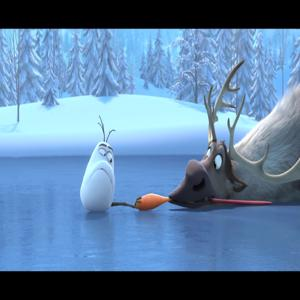carrot: (130, 178, 165, 218)
olaf: (71, 111, 124, 212)
sven: (168, 74, 285, 212)
